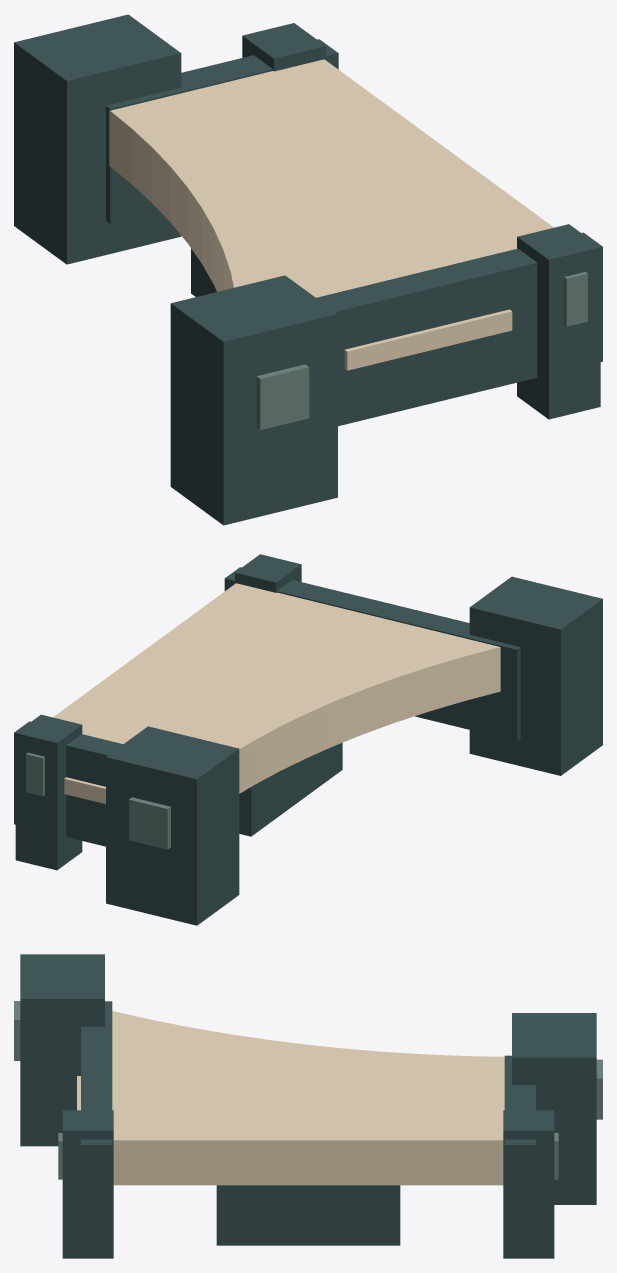
The model's file is Pier_Angled_15_lab2.glb.
3 views of the same model, one above another, from view 1: azimuth 30°, elevation 25°; view 2: azimuth 150°, elevation 25°; view 3: azimuth 270°, elevation 25° (orthographic). The views are drawn at different scales.
Parts seen in each view (by area): view 1: Pier_Angled_15; view 2: Pier_Angled_15; view 3: Pier_Angled_15.
Part boxes in pixels (left/top/right/bottom): Pier_Angled_15: left=14, top=14, right=602, bottom=525; Pier_Angled_15: left=14, top=554, right=602, bottom=925; Pier_Angled_15: left=14, top=954, right=602, bottom=1258.
Size of the model in its own units: 2.74 by 1.15 by 4.17.
